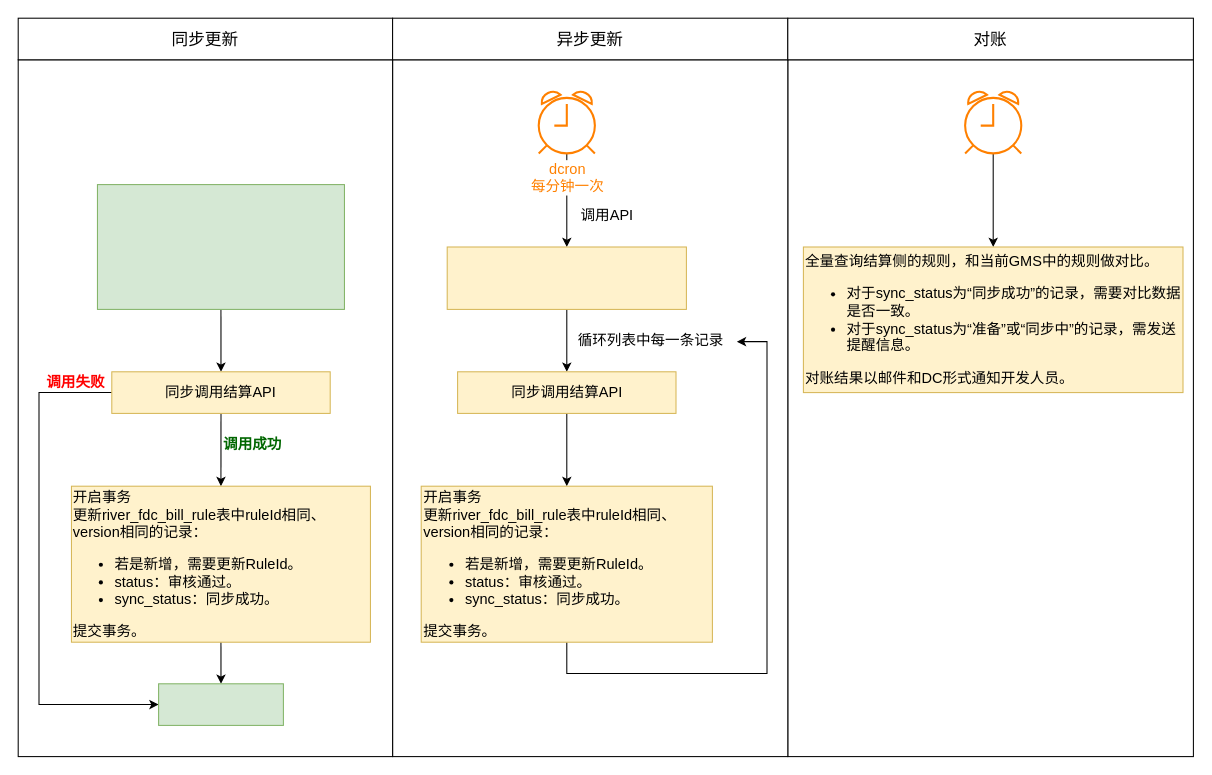
Some shapes in this 1212 by 775 pixel diagram are drawn without their labels. The shapes that lost their labels are listed below. From the top down, each one's centre as x and y in pixels, then its label:
point 993,121: dcron 每天结算执行之前一小时
point 220,246: 开启事务 更新river_fdc_bill_rule表中记录： status：审核通过。 sync_status：同步中。 提交事务。
point 566,277: 查询status为“审核通过”、sync_status为“同步中”的记录列表。 查询使用快照读即可，无需加锁。
point 220,704: 返回成功
